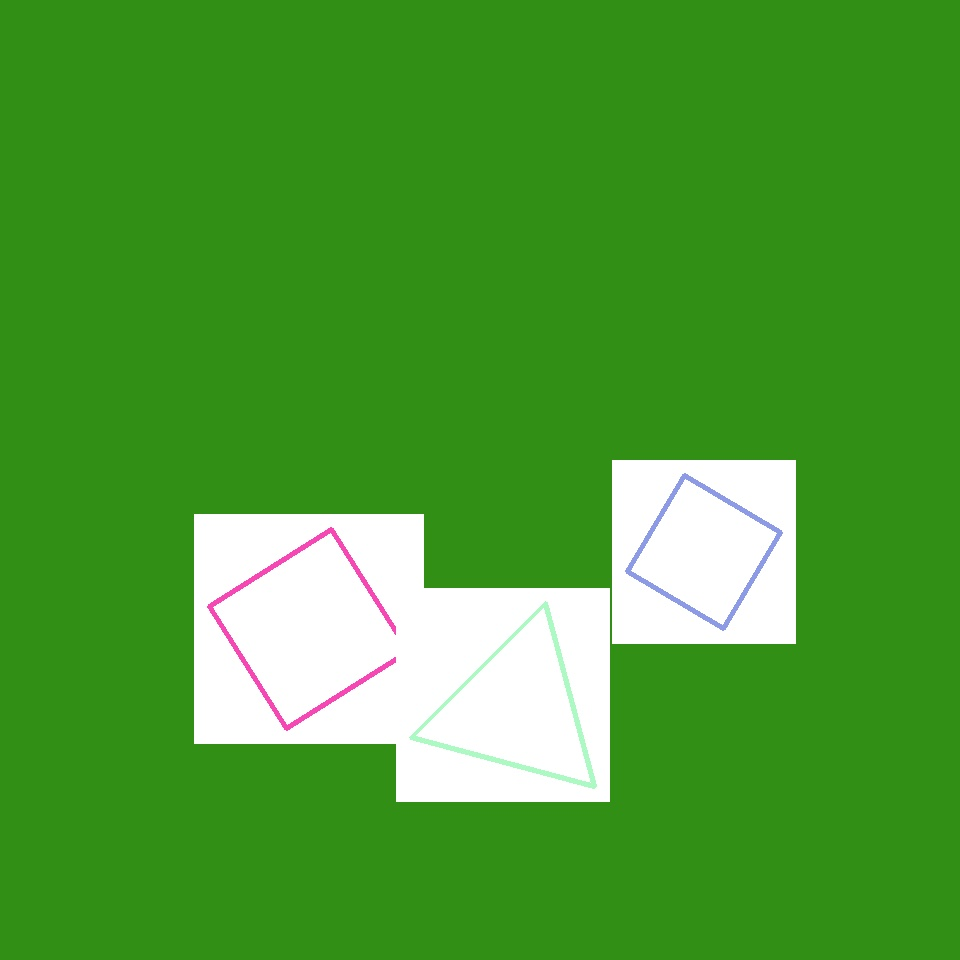circle: (426, 618, 608, 800), (387, 407, 505, 535)
square: (492, 336, 772, 616), (210, 530, 408, 728), (630, 324, 788, 482), (627, 475, 780, 628)
triangle: (262, 118, 600, 456), (180, 222, 466, 510), (68, 38, 320, 290)
